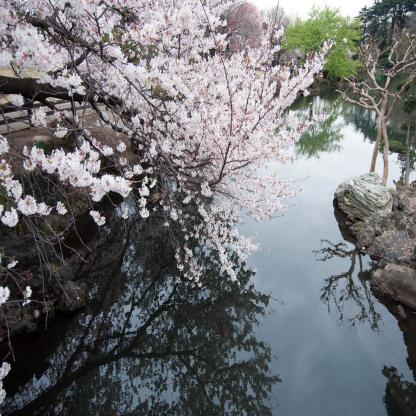Someiyoshino: (0, 4, 362, 308)
